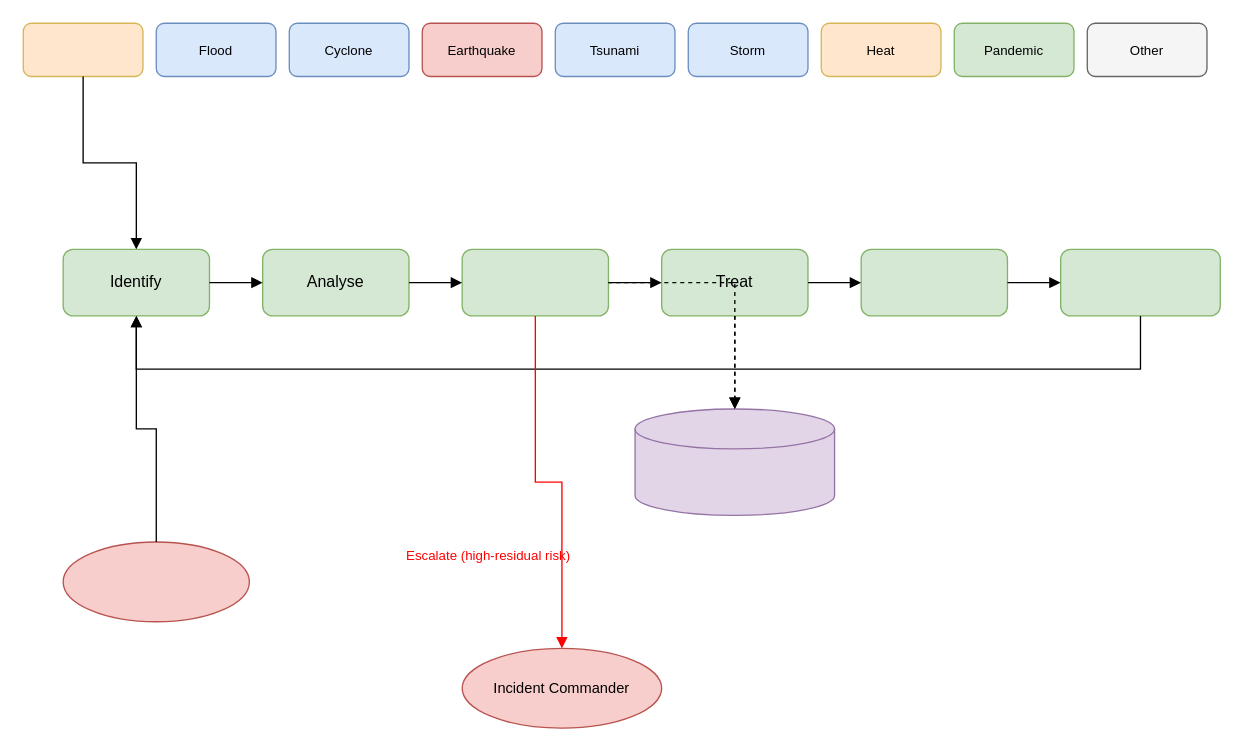
Some shapes in this 1244 by 751 pixel diagram are drawn without their labels. The box of each missing label's shape, as (x1, y1, x2, y2) in pixels:
AIIMS Risk Manager: (62, 541, 249, 622)
Bushfire: (22, 22, 143, 76)
Evaluate: (461, 248, 608, 316)
Monitor: (860, 248, 1007, 316)
Review / Close: (1059, 248, 1220, 316)
Risk Register (Cosmos DB): (634, 408, 835, 515)
